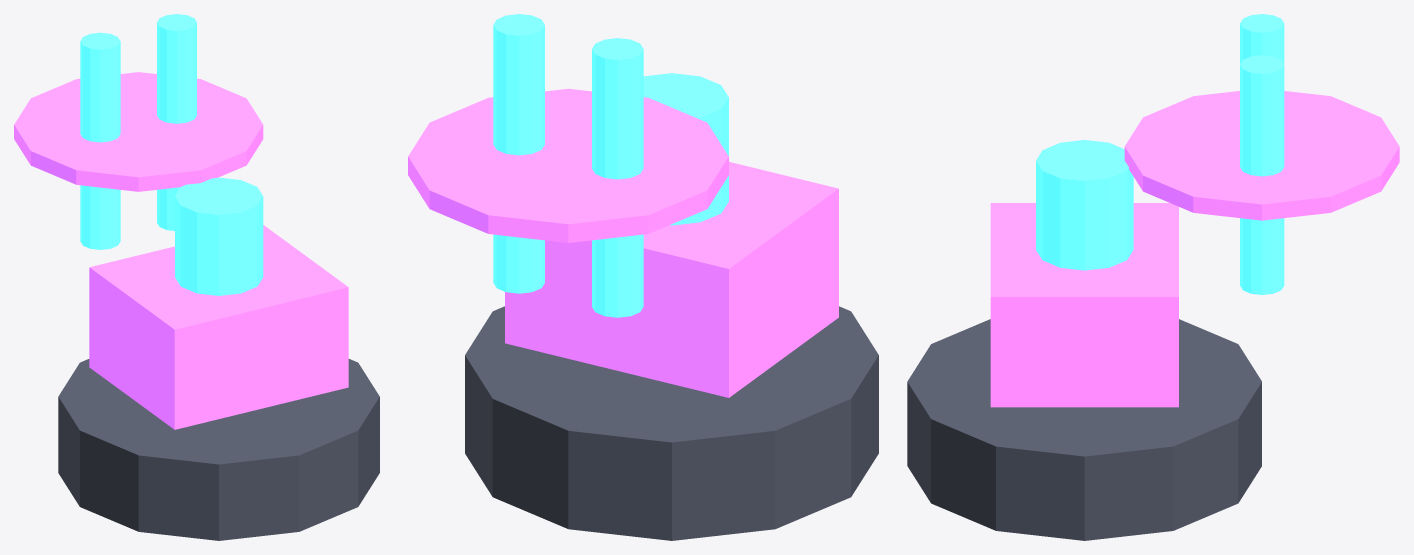
The model's file is arc_cannon.glb.
3 views of the same model, side by side, from view 1: azimuth 30°, elevation 25°; view 2: azimuth 150°, elevation 25°; view 3: azimuth 270°, elevation 25° (orthographic). The views are drawn at different scales.
Visible parts, largest first — view 1: Base, Housing, EmitterRing, Core, ArcEmitter, ArcEmitter.001; view 2: Base, Housing, EmitterRing, ArcEmitter, ArcEmitter.001, Core; view 3: Base, Housing, EmitterRing, Core, ArcEmitter.001, ArcEmitter.
Part boxes in pixels (x1,y1,x2,y2): Base: (58,359,379,540); Housing: (89,225,348,429); EmitterRing: (14,72,263,191); Core: (175,177,263,295); ArcEmitter: (80,32,120,249); ArcEmitter.001: (157,14,196,230); Base: (465,306,878,540); Housing: (505,162,838,397); EmitterRing: (408,88,728,242); ArcEmitter: (592,38,643,317); ArcEmitter.001: (493,14,544,293); Core: (643,73,728,225); Base: (907,319,1261,540); Housing: (990,203,1178,407); EmitterRing: (1124,91,1399,220); Core: (1036,140,1133,270); ArcEmitter.001: (1240,55,1284,294); ArcEmitter: (1240,14,1284,63).
Bounding box in the file's own units: 1.6 × 2.1 × 2.22.
